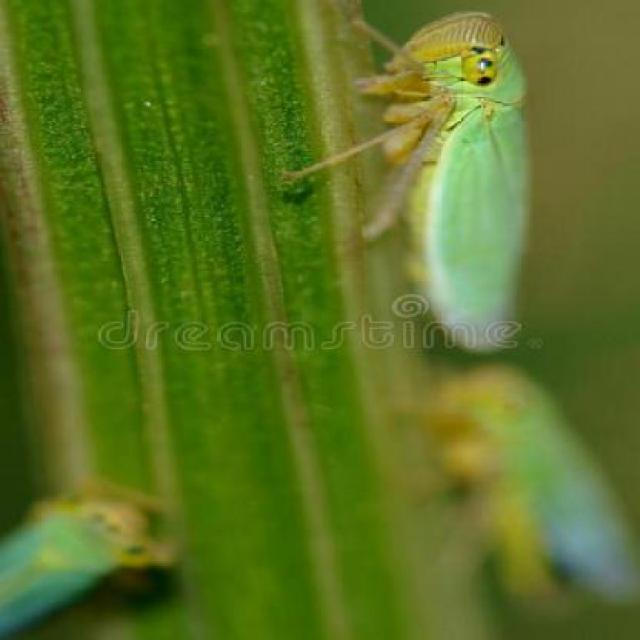green-leafhopper: (362, 16, 548, 344), (461, 374, 617, 606), (0, 492, 154, 638)
